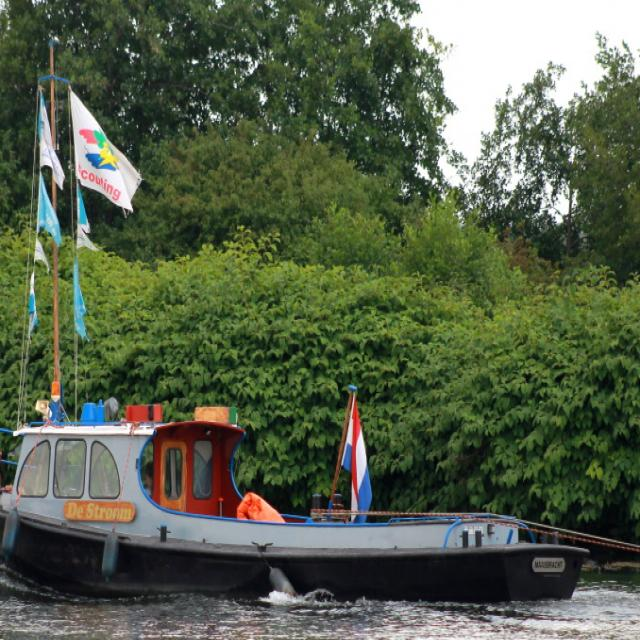tugboat: (1, 374, 594, 614)
